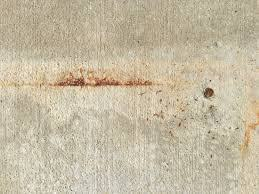Corrosion: (203, 87, 215, 99)
Exposed reinforcement: (48, 76, 154, 87)
